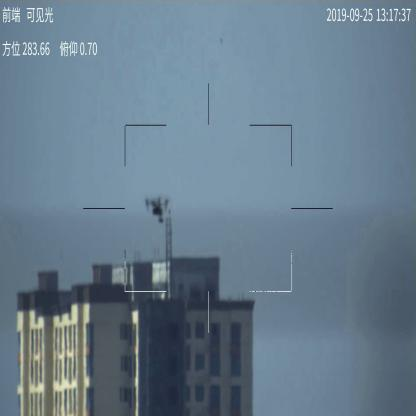uav: (144, 195, 170, 224)
